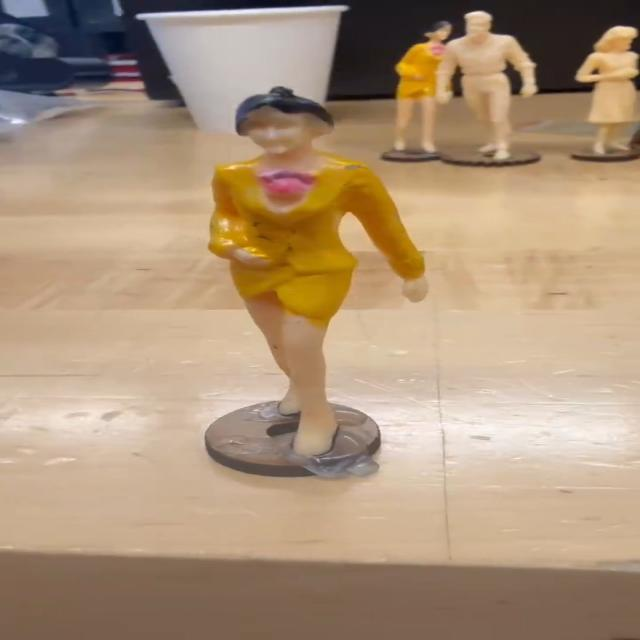Authorized: (194, 74, 452, 466)
